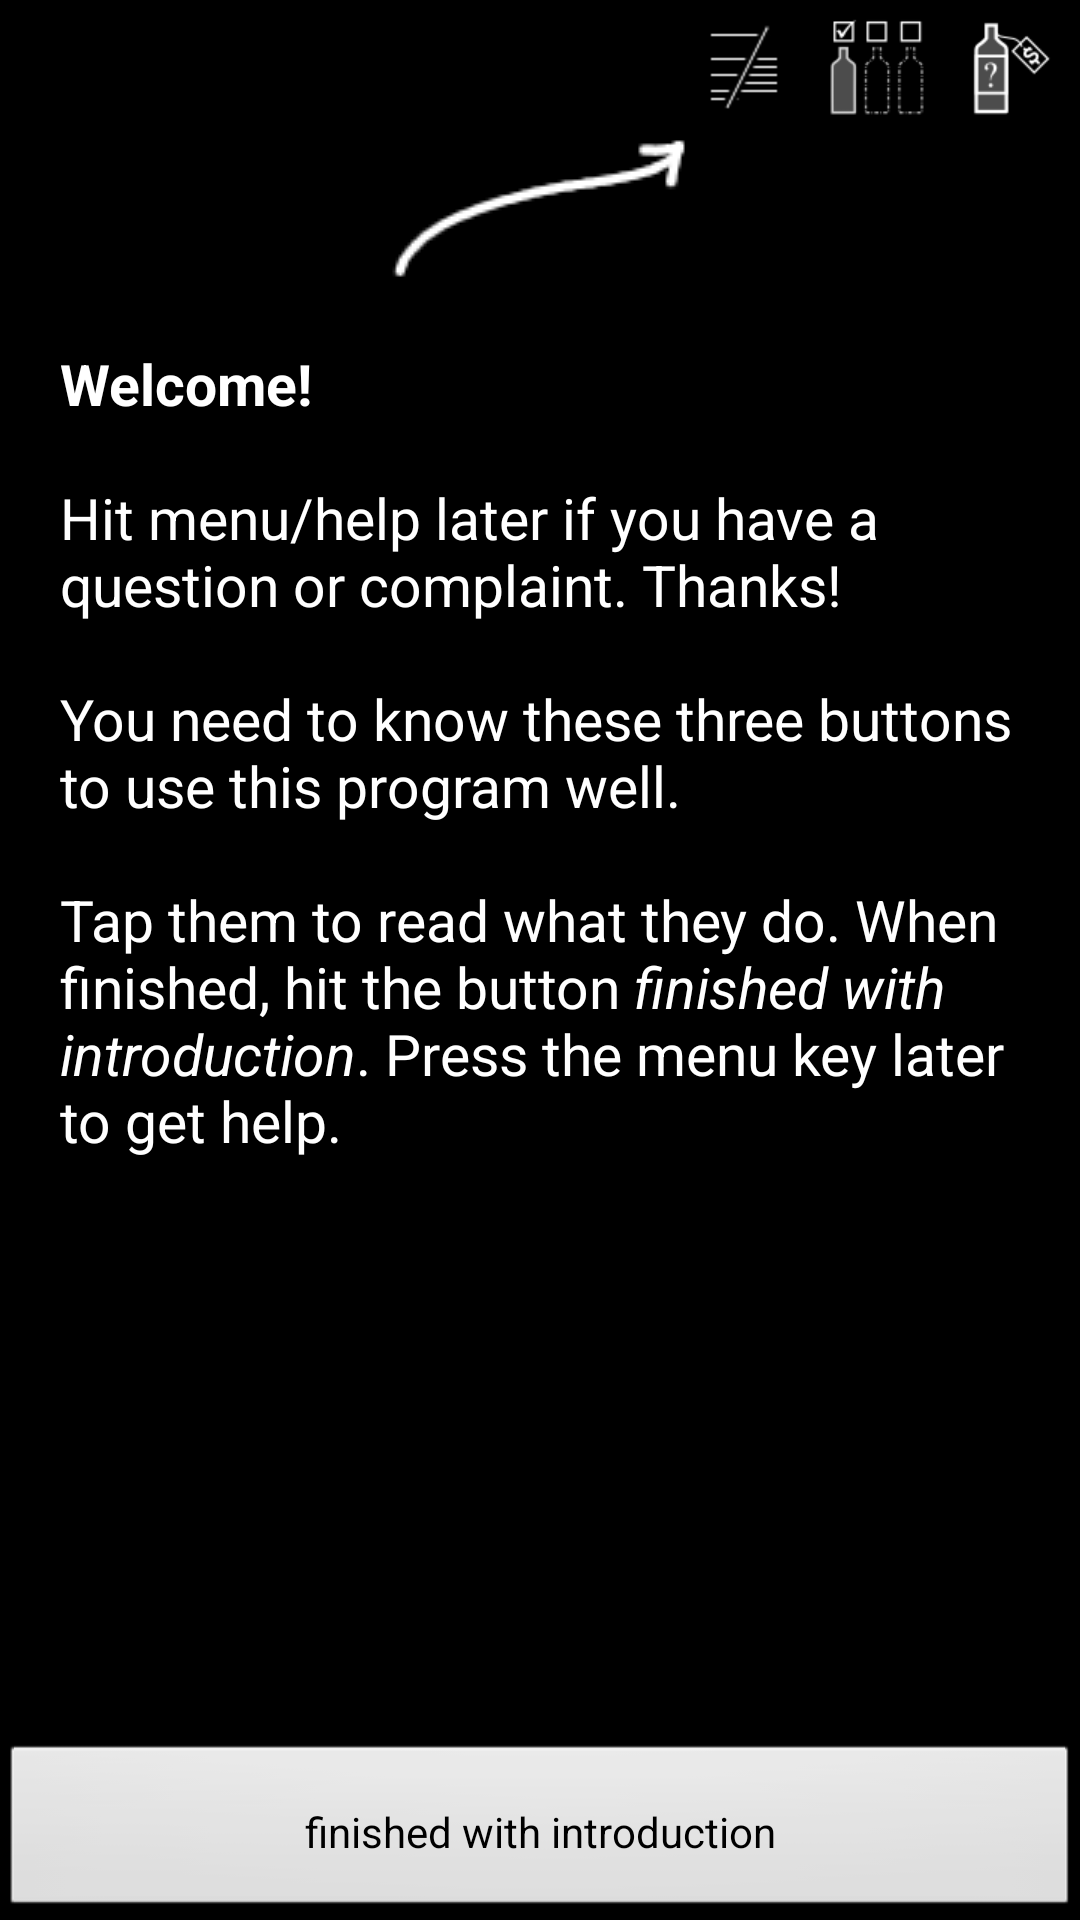

Where icons sit on this 1080 x 1920 app screen, as {"left": x1, "top": y1, "right": x2, "bottom": y2}:
intro buttons arrows: {"left": 393, "top": 140, "right": 685, "bottom": 277}
mark owned ingredients: {"left": 830, "top": 20, "right": 924, "bottom": 115}
suggest shopping list: {"left": 973, "top": 22, "right": 1050, "bottom": 115}
toggle viewable: {"left": 710, "top": 26, "right": 778, "bottom": 109}
